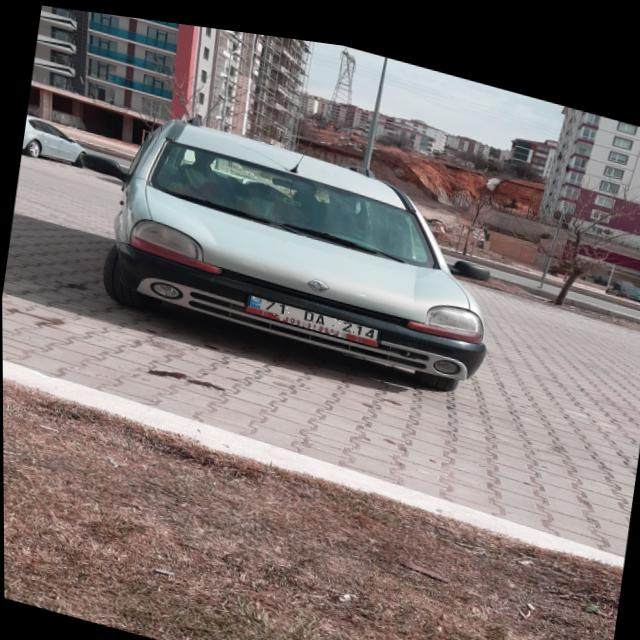plate: (247, 289, 379, 335)
